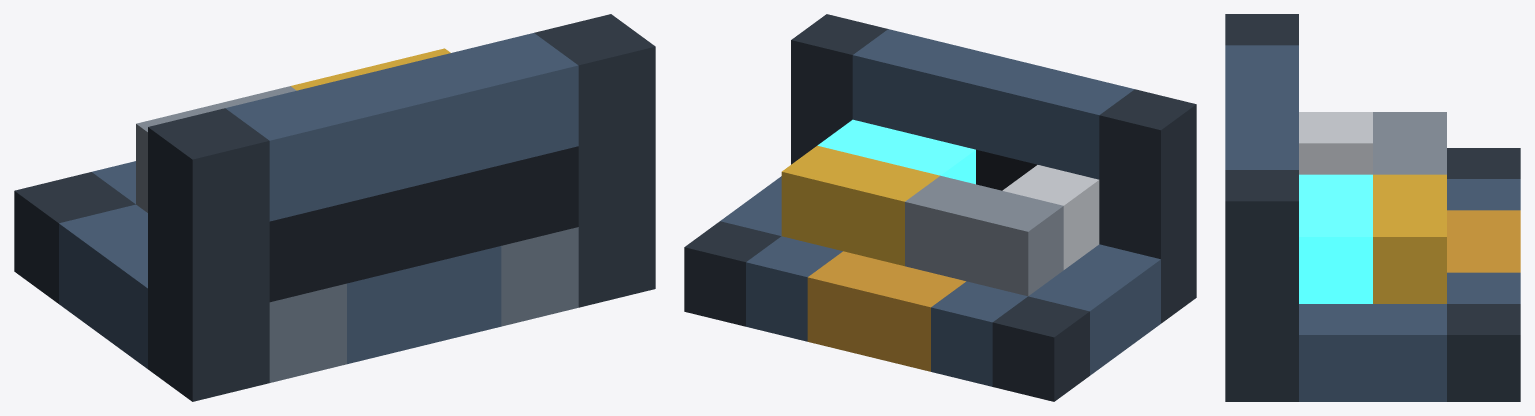
File: fm3_field_meter_case.glb
3 renders of one model, left to right at view 1: azimuth 30°, elevation 25°; view 2: azimuth 150°, elevation 25°; view 3: azimuth 270°, elevation 25°, orthographic. The views are drawn at different scales.
Visible parts, largest first — view 1: prop; view 2: prop, emit_screen; view 3: prop, emit_screen.
Part boxes in pixels (bbox=[...]): prop: bbox=[14, 14, 655, 401]; prop: bbox=[684, 14, 1196, 401]; emit_screen: bbox=[817, 119, 975, 184]; prop: bbox=[1225, 14, 1520, 401]; emit_screen: bbox=[1299, 174, 1372, 303].
Bounding box in the file's own units: 6 × 3 × 4.
